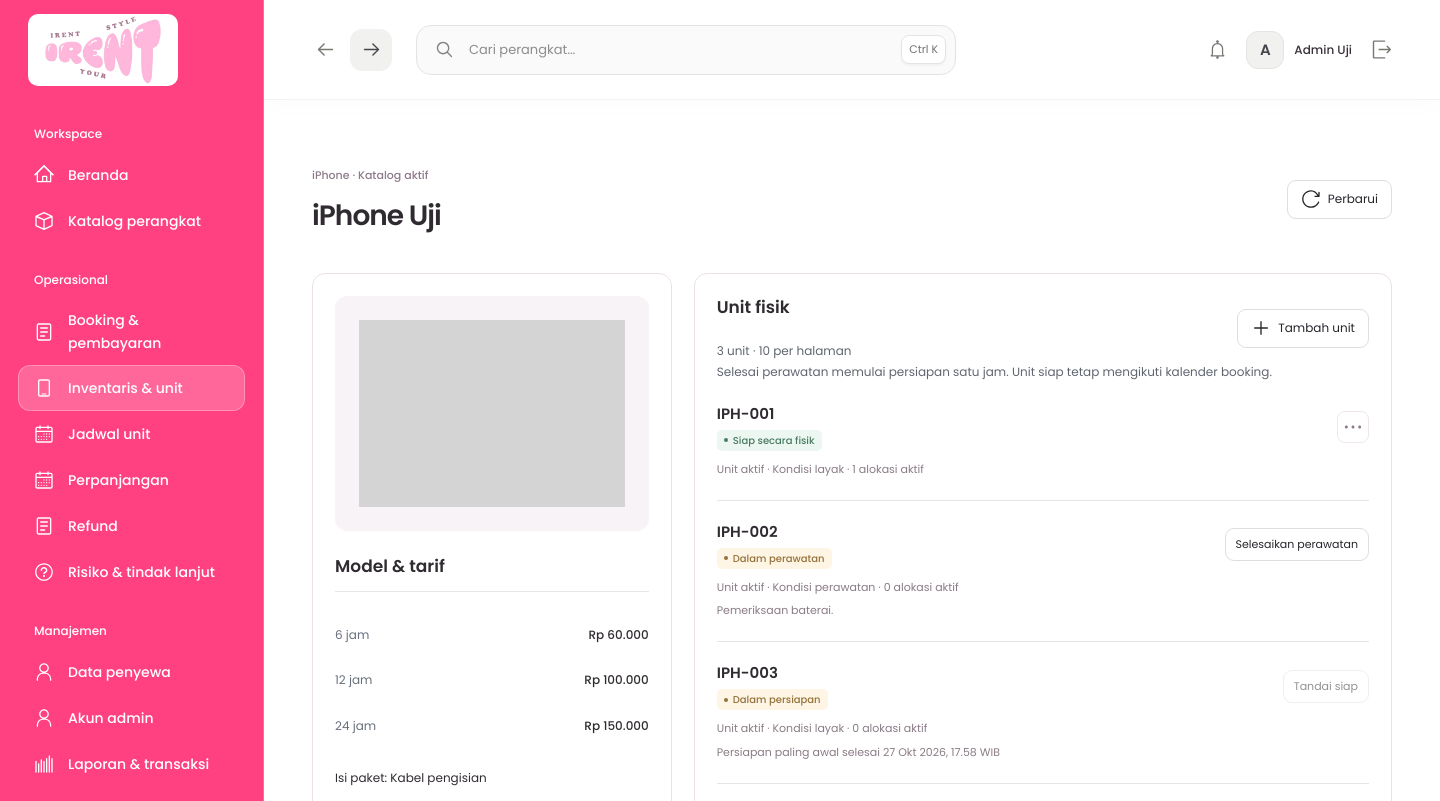
Test: keeps reserved or rented units out of maintenance and deactivation
Click the heading named "Tindakan unit IPH-001" at [1353, 427], box [1337,411,1369,443]
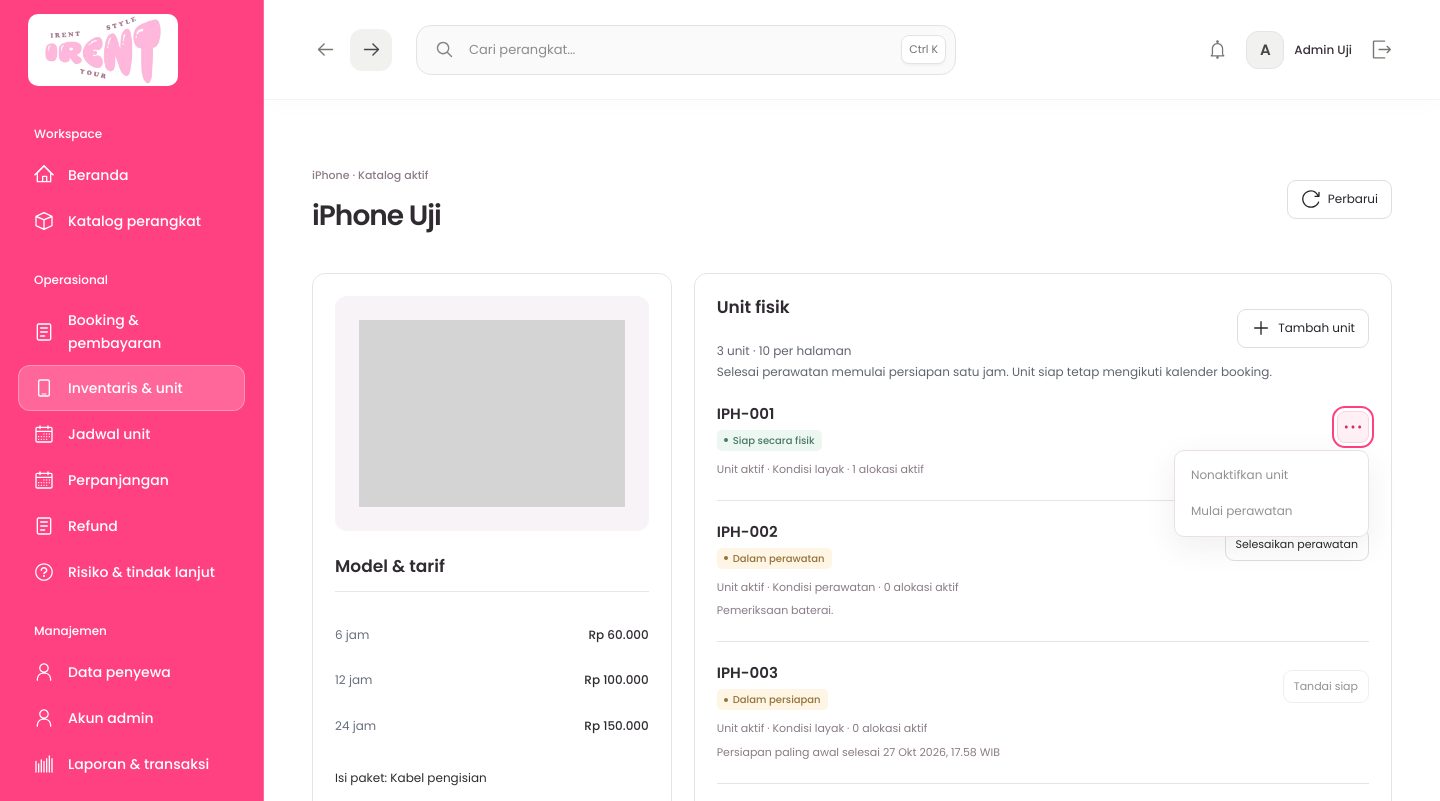
Expected: the button with aria-label "Nonaktifkan IPH-001" is disabled, [1181,457,1362,493]
Expected: the button with aria-label "Mulai perawatan IPH-001" is disabled, [1181,493,1362,530]
